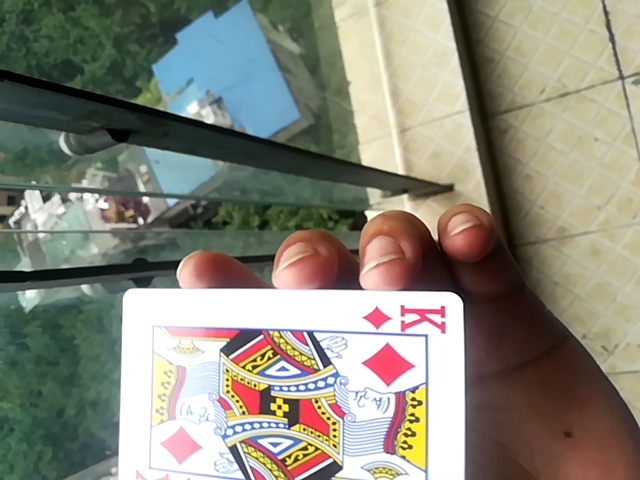fk k: (109, 287, 469, 476)
